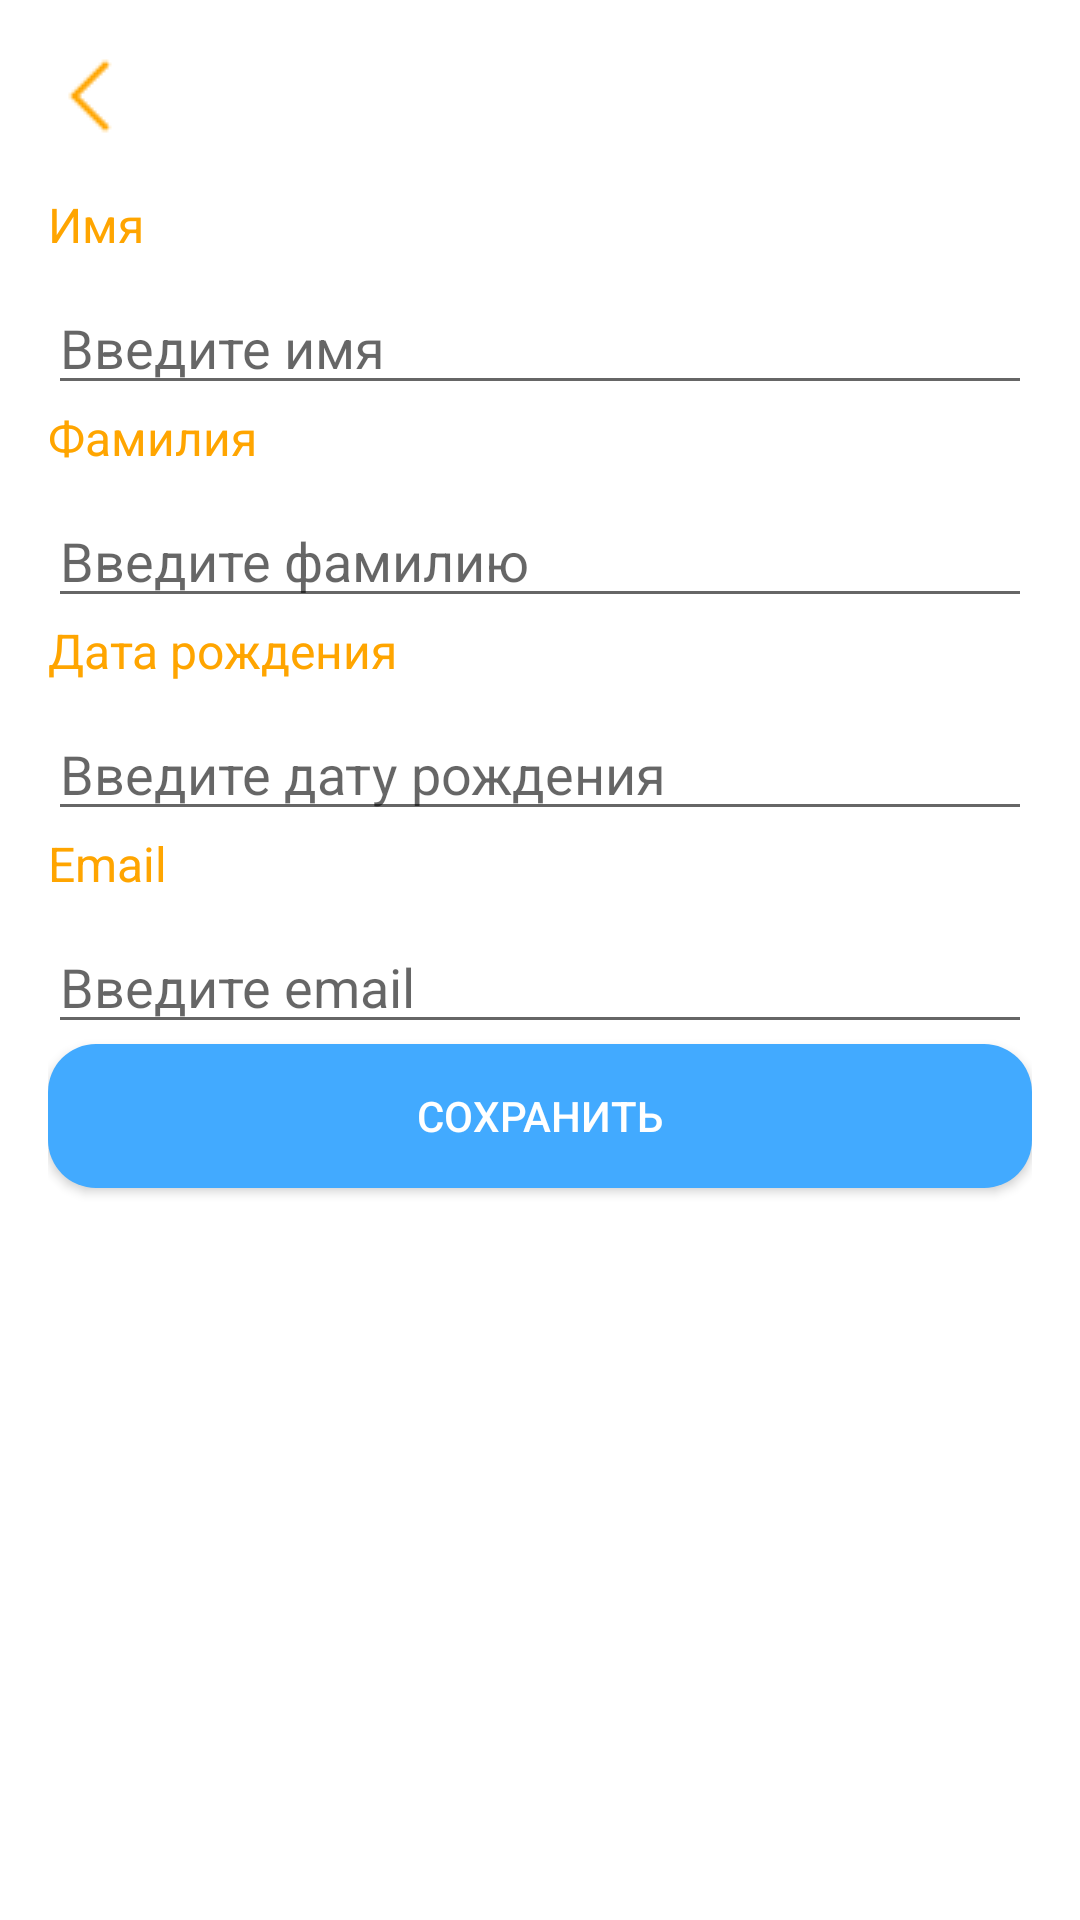

Screen size 1080*1920. Icon name, then its center in pixels as (x,y):
Назад: (90,96)
